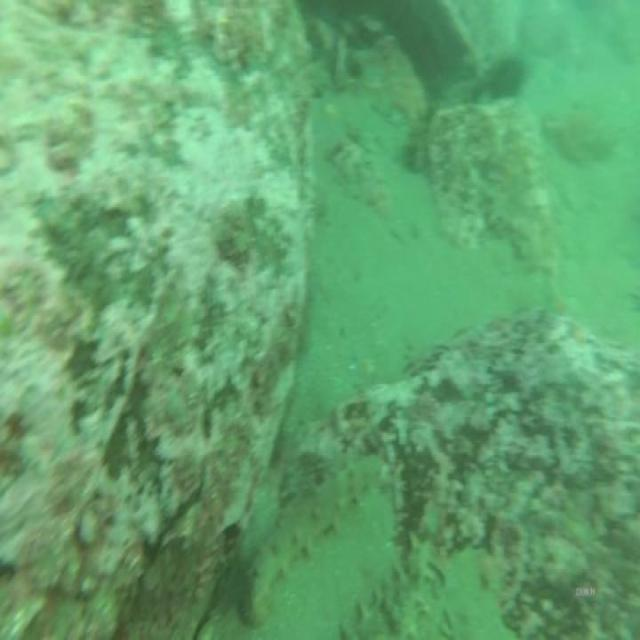holothurian: (236, 455, 385, 616), (393, 499, 449, 640)
